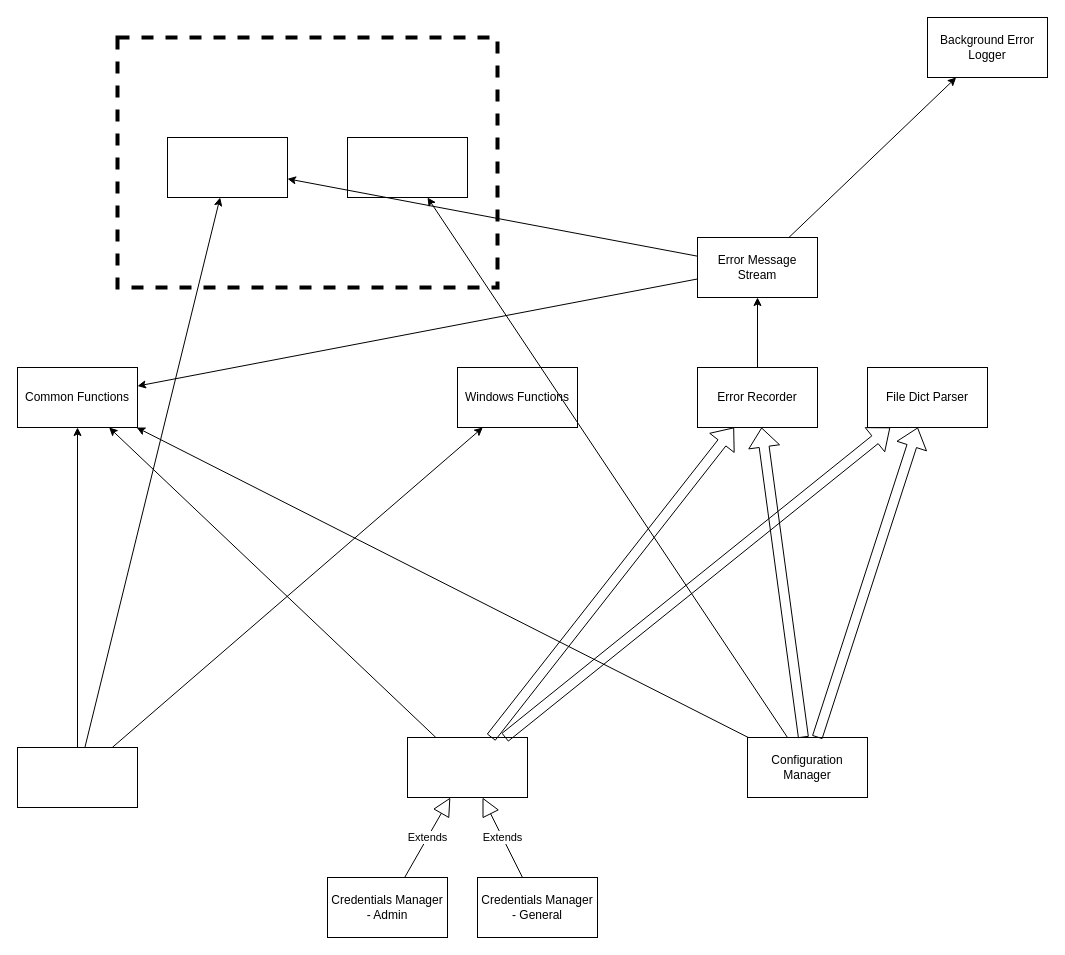
Some shapes in this 1065 by 955 pixel diagram are drawn without their labels. The centre of each missing label's shape, as x and y in pixels:
Access Code Manager: (x=77, y=777)
Credentials Manager: (x=467, y=767)
Data Decryptor: (x=227, y=167)
Encrypt Strings: (x=407, y=167)
